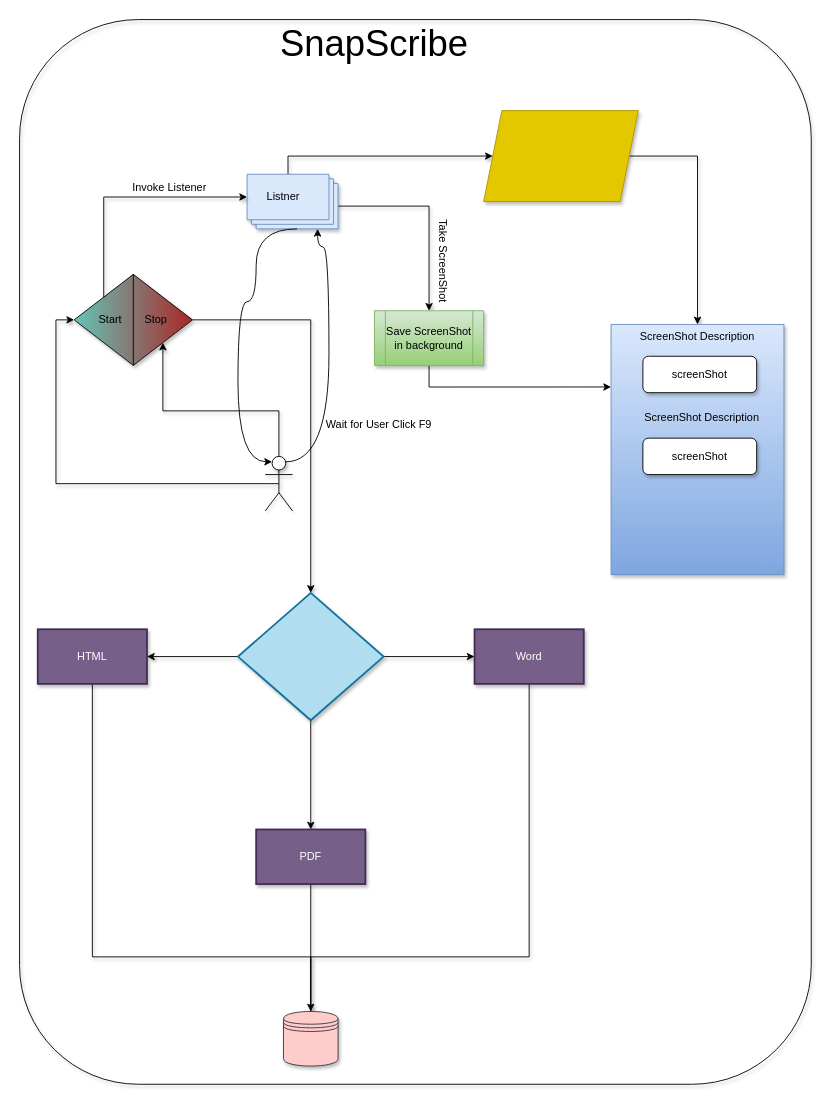
The diagram is 833 pixels wide and 1107 high, and some of its shapes have lost their labels. The centre of each missing label's shape, as x and y in pixels:
Actor: the point at 279,484
Ask for description for the screenshot: the point at 561,157
Ask Type of document required: the point at 311,657
Local Storage: the point at 311,1039
